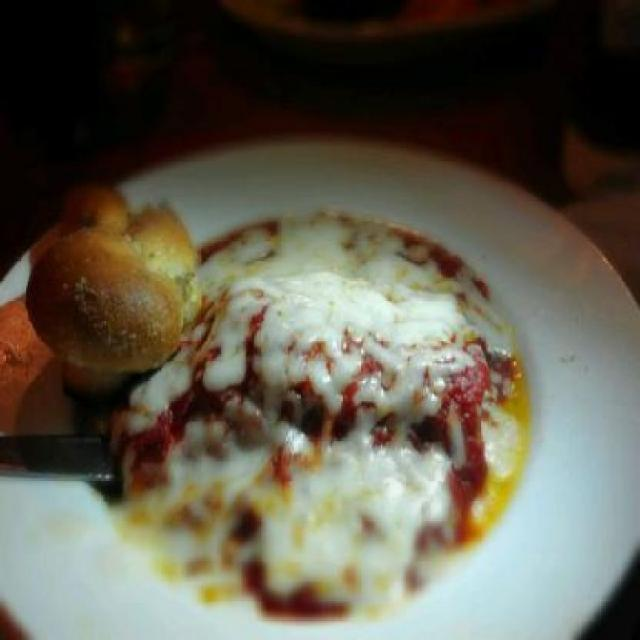Lasagna: (182, 203, 507, 580)
